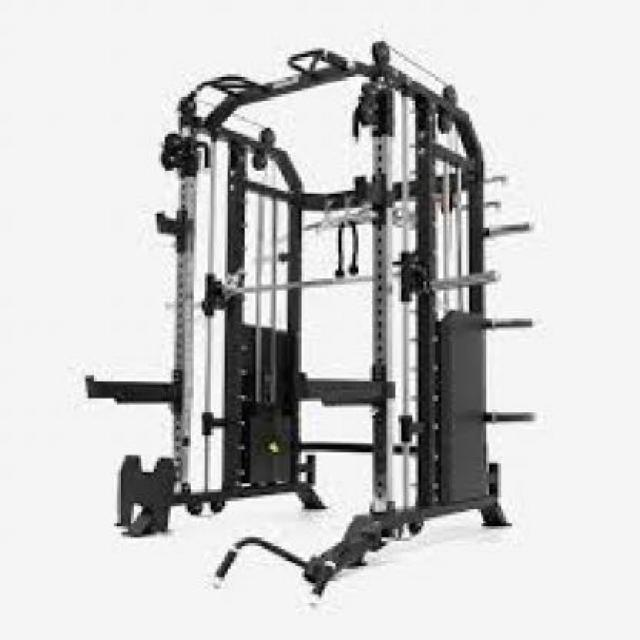smith machine: (87, 40, 536, 609)
